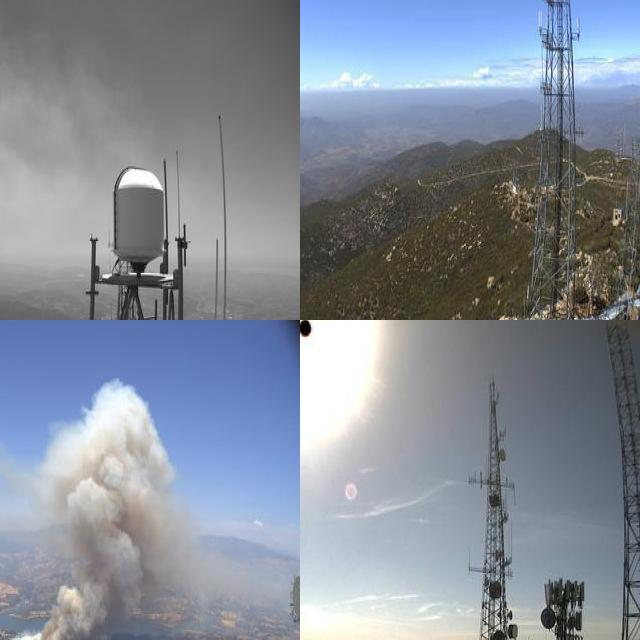smoke: (0, 370, 245, 640)
